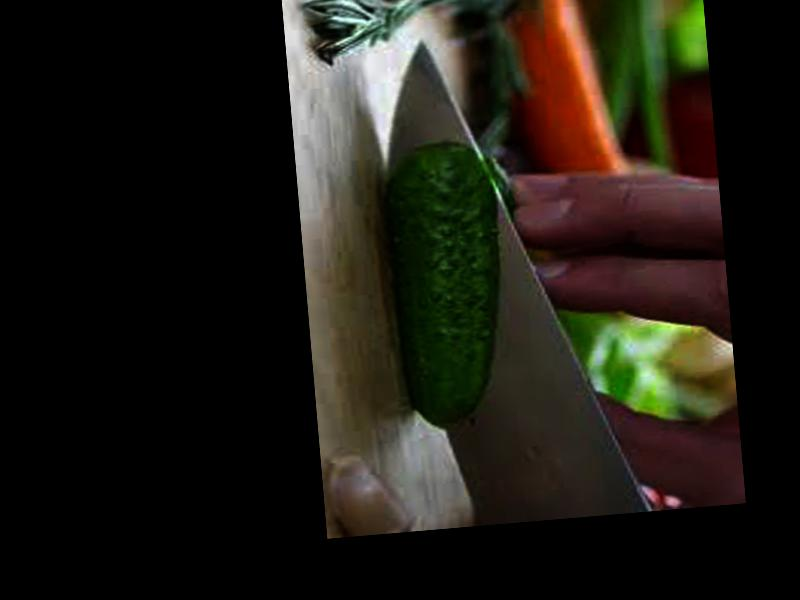Cucumber: (376, 137, 515, 428)
